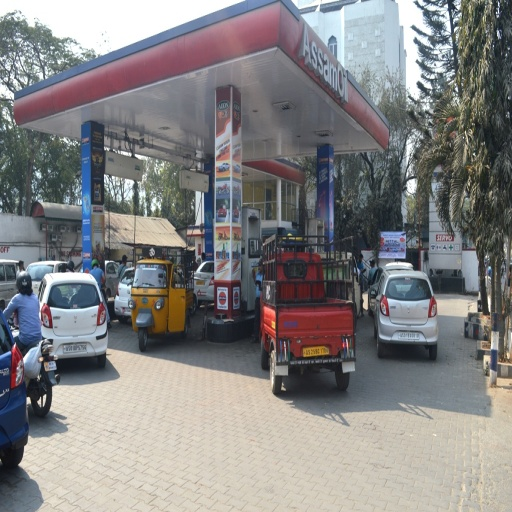roof: (11, 1, 392, 165)
